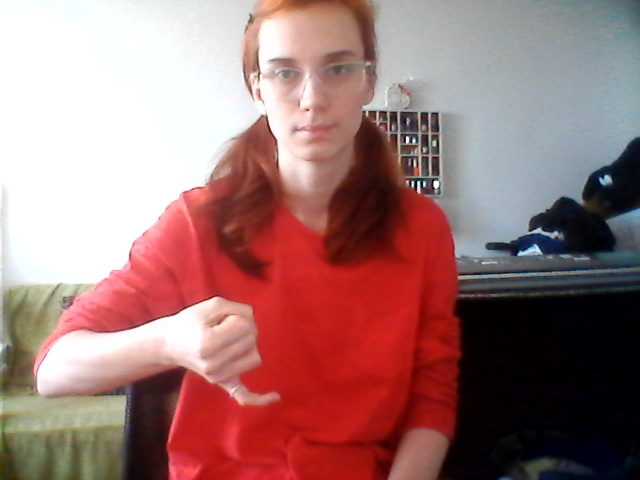j: (170, 278, 331, 410)
